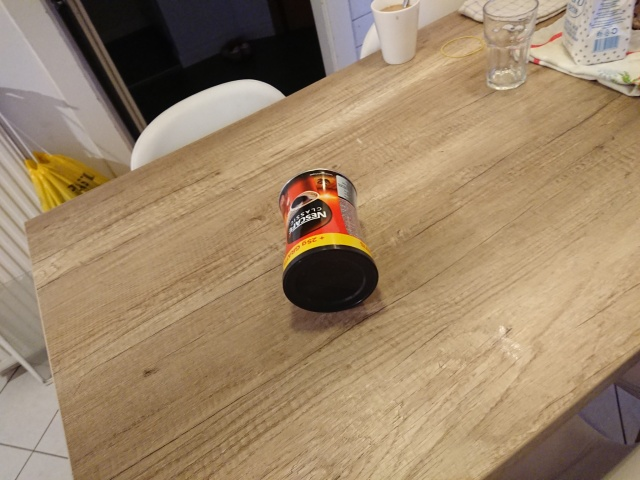Nescafe Classic 225g: (275, 167, 382, 317)
